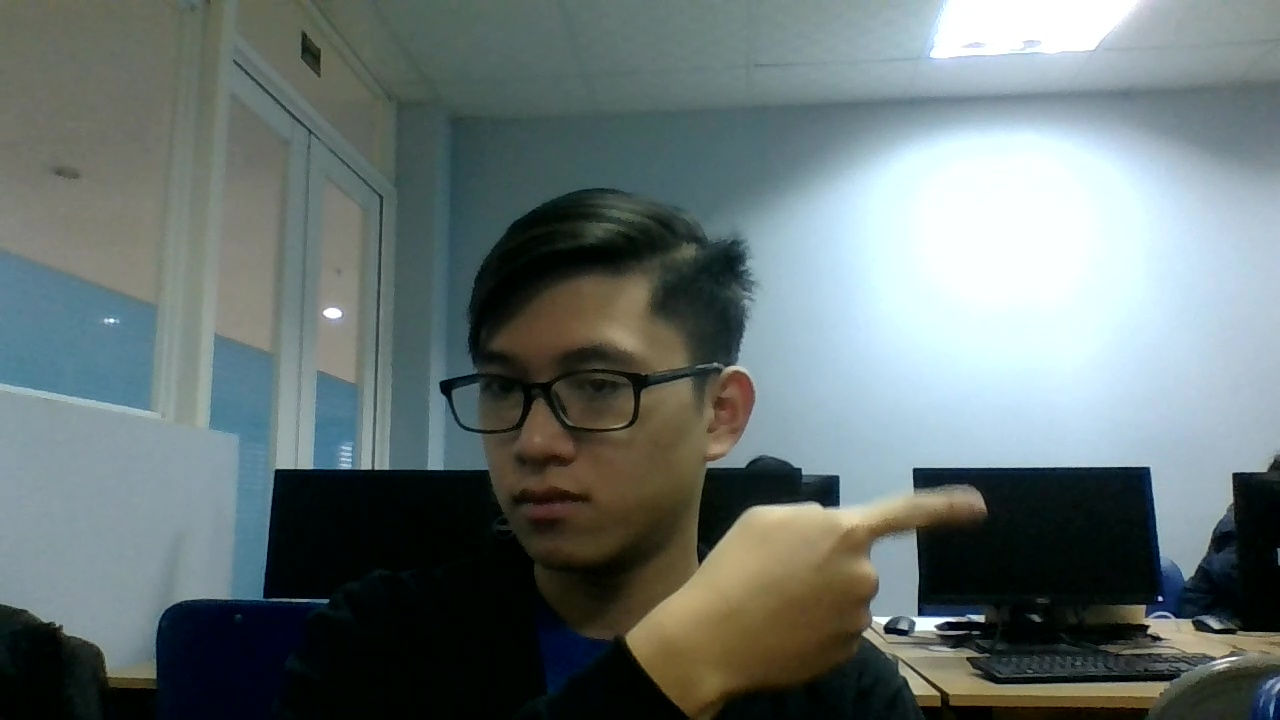left: (727, 467, 997, 693)
